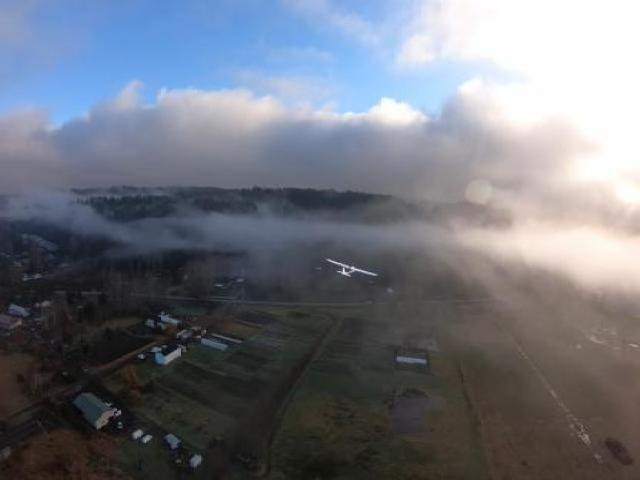uav: (326, 254, 380, 279)
